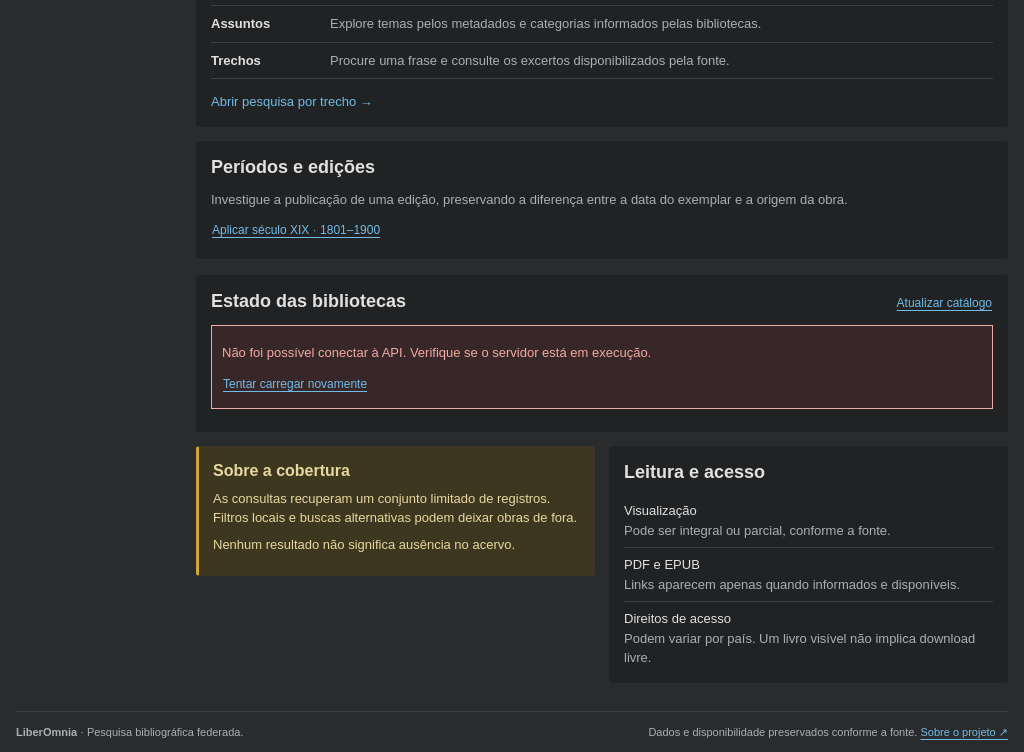
home page › shows connection failures and recovers on retry
This screenshot has width=1024, height=752.
(page scrolled)
Step 1. Click the button "Tentar carregar novamente" → [295, 384], box x1=222 y1=370 x2=368 y2=398
(page scrolled)
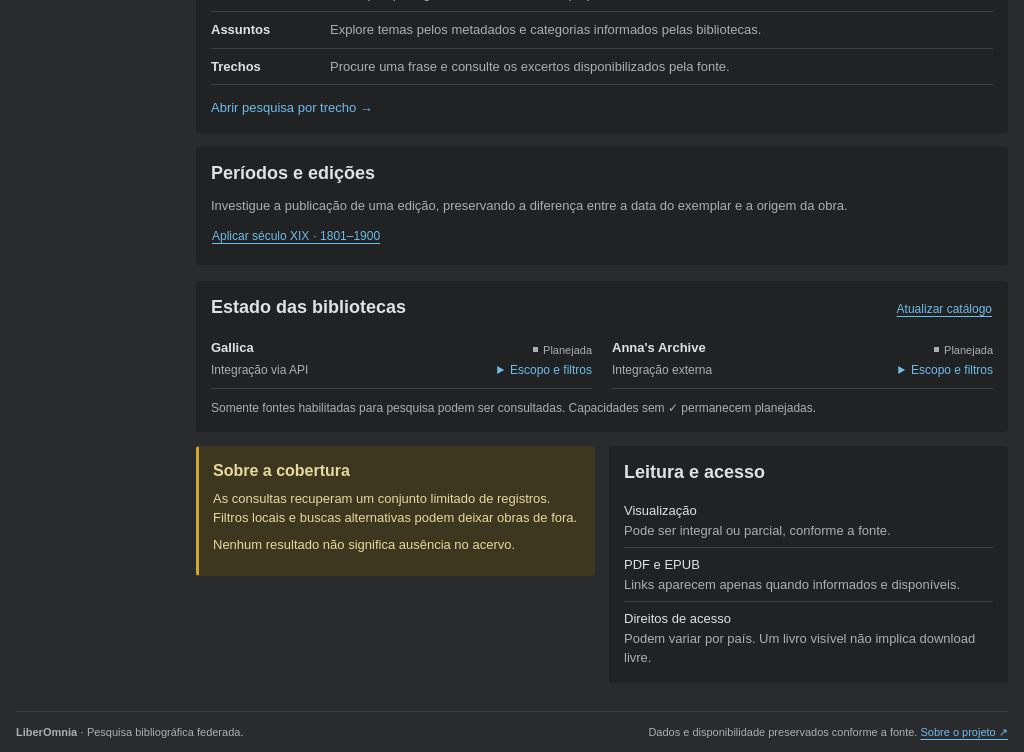
Now the number of list items with class "source-card" is 2, box x1=211 y1=331 x2=592 y2=389; x1=612 y1=331 x2=993 y2=389
